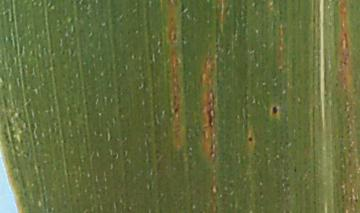tarspot: (269, 101, 280, 119), (246, 134, 256, 144)
